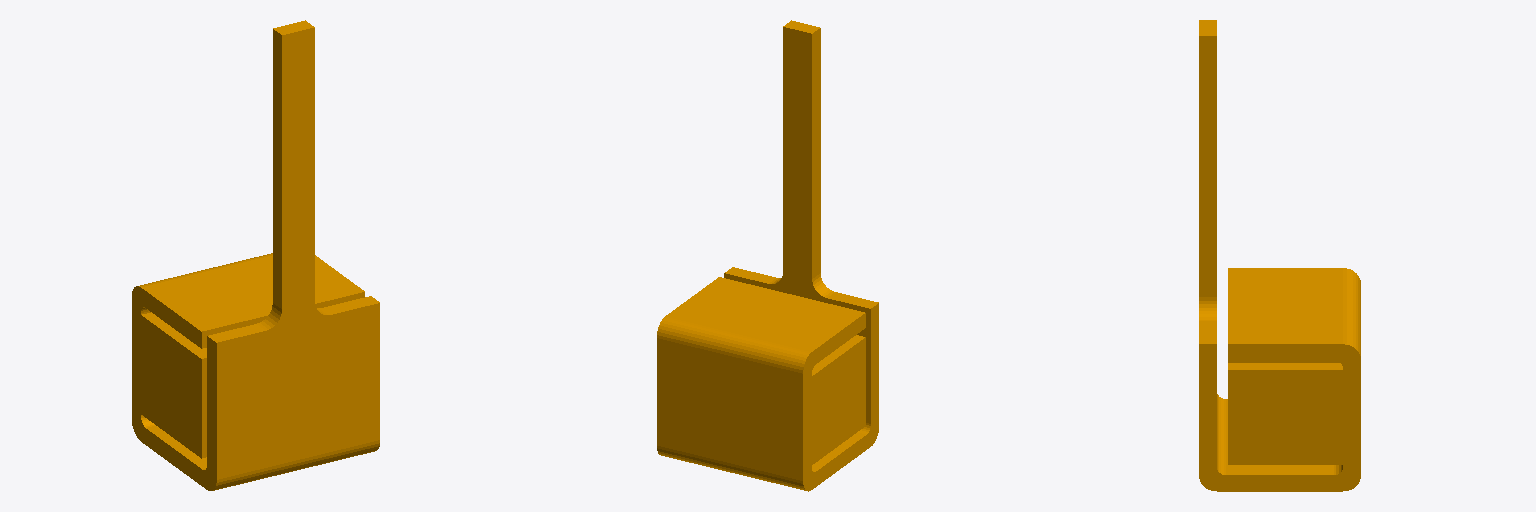
robot.urdf — benchmark_part_14:
<robot name="benchmark_part_14">
  <link name="base_link">
    <visual>
      <geometry>
        <mesh filename="benchmark_parts_stl/benchmark_part_14.stl" scale="0.001 0.001 0.001" />
      </geometry>
    <origin xyz="0.03999998910157954 -0.1047579372784362 -0.029117340324246874" rpy="0 0 0" /></visual>
    <collision>
      <geometry>
        <mesh filename="benchmark_parts_stl/benchmark_part_14_vhacd.obj" scale="0.01 0.01 0.01" />
      </geometry>
    <origin xyz="0.03999998910157954 -0.1047579372784362 -0.029117340324246874" rpy="0 0 0" /></collision>
    <inertial>
      <mass value="0.1" />
      <inertia ixx="0.001" ixy="0.0" ixz="0.0" iyy="0.001" iyz="0.0" izz="0.001" />
    </inertial>
  </link>
</robot>

--- Render facts (derived) ---
3 views of the same robot in one strip: view 1: azimuth 30°, elevation 25°; view 2: azimuth 150°, elevation 25°; view 3: azimuth 270°, elevation 25° (orthographic).
Model benchmark_part_14 with 1 links and 0 joints (none), rooted at base_link, posed all joints at 0.
Links seen in each view (by area): view 1: base_link; view 2: base_link; view 3: base_link.
Link boxes in pixels (<box>): base_link: <box>132,20,379,490</box>; base_link: <box>657,20,878,491</box>; base_link: <box>1199,20,1360,491</box>.
Size in the robot's own frame: 0.05 by 0.045 by 0.13 metres.
1 mesh visuals loaded from 1 distinct referenced files (1 binary STL).